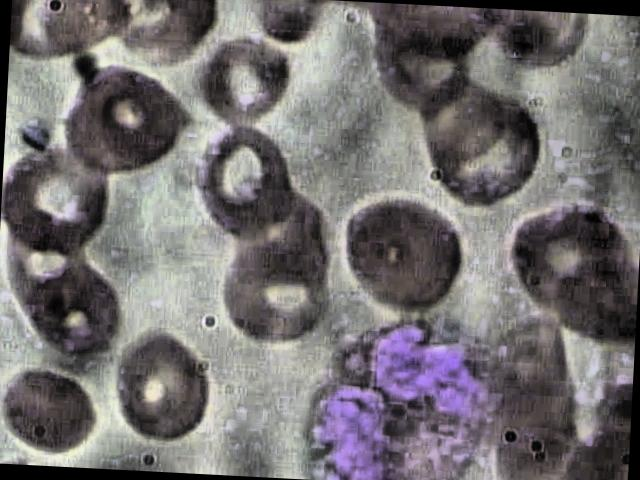Platelets: (18, 118, 57, 153)
RBC: (336, 180, 474, 325), (499, 198, 638, 332), (50, 55, 194, 177), (422, 82, 546, 207), (189, 118, 301, 244), (220, 228, 332, 354), (0, 134, 113, 256), (109, 326, 212, 448), (0, 341, 102, 463), (198, 32, 298, 134)
WBC: (292, 299, 512, 480)
